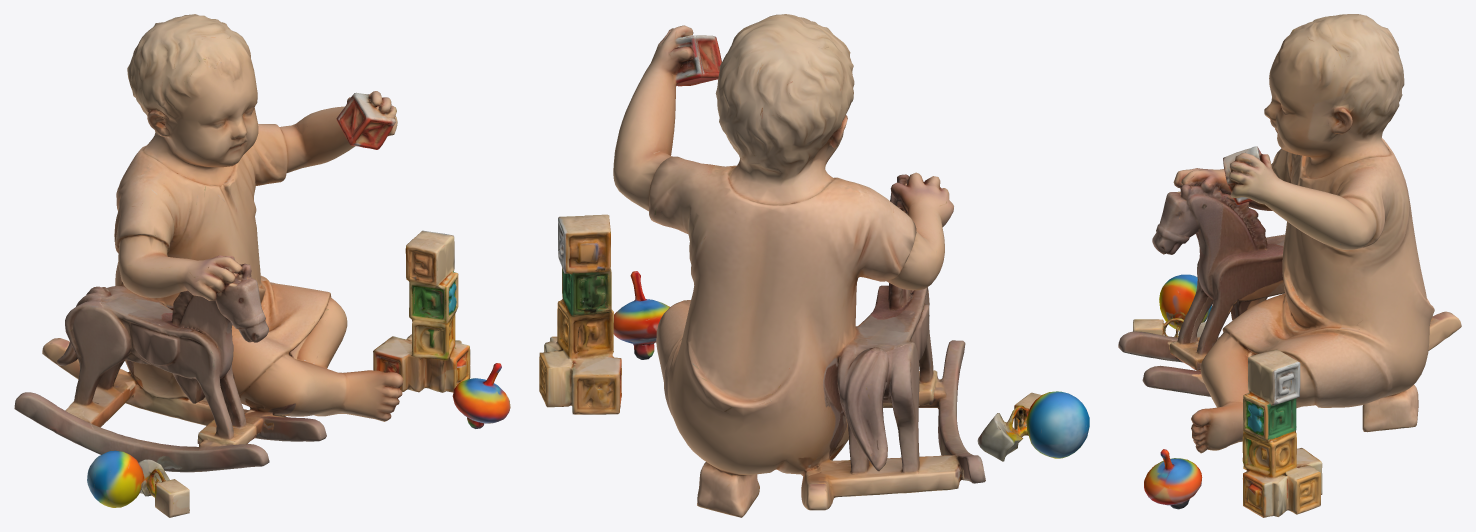
File: Child_Toys.fbx
3 renders of one model, left to right at view 1: azimuth 30°, elevation 25°; view 2: azimuth 150°, elevation 25°; view 3: azimuth 270°, elevation 25°, orthographic. The views are drawn at different scales.
Parts seen in each view (by area): view 1: Child_Toys; view 2: Child_Toys; view 3: Child_Toys.
Part boxes in pixels (x1,y1,x2,y2): Child_Toys: (14, 14, 510, 517); Child_Toys: (539, 14, 1089, 517); Child_Toys: (1118, 14, 1461, 517).
Size of the model in its own units: 191 by 173 by 137.
1 material, 1 textured.
